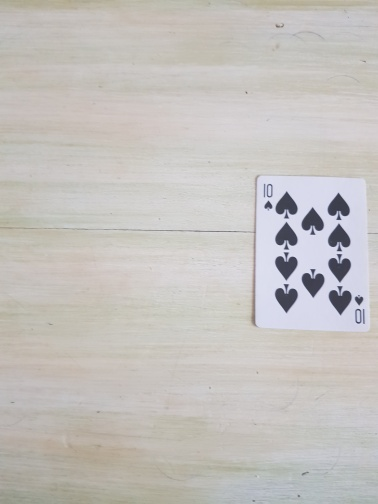ten: (252, 175, 372, 333)
